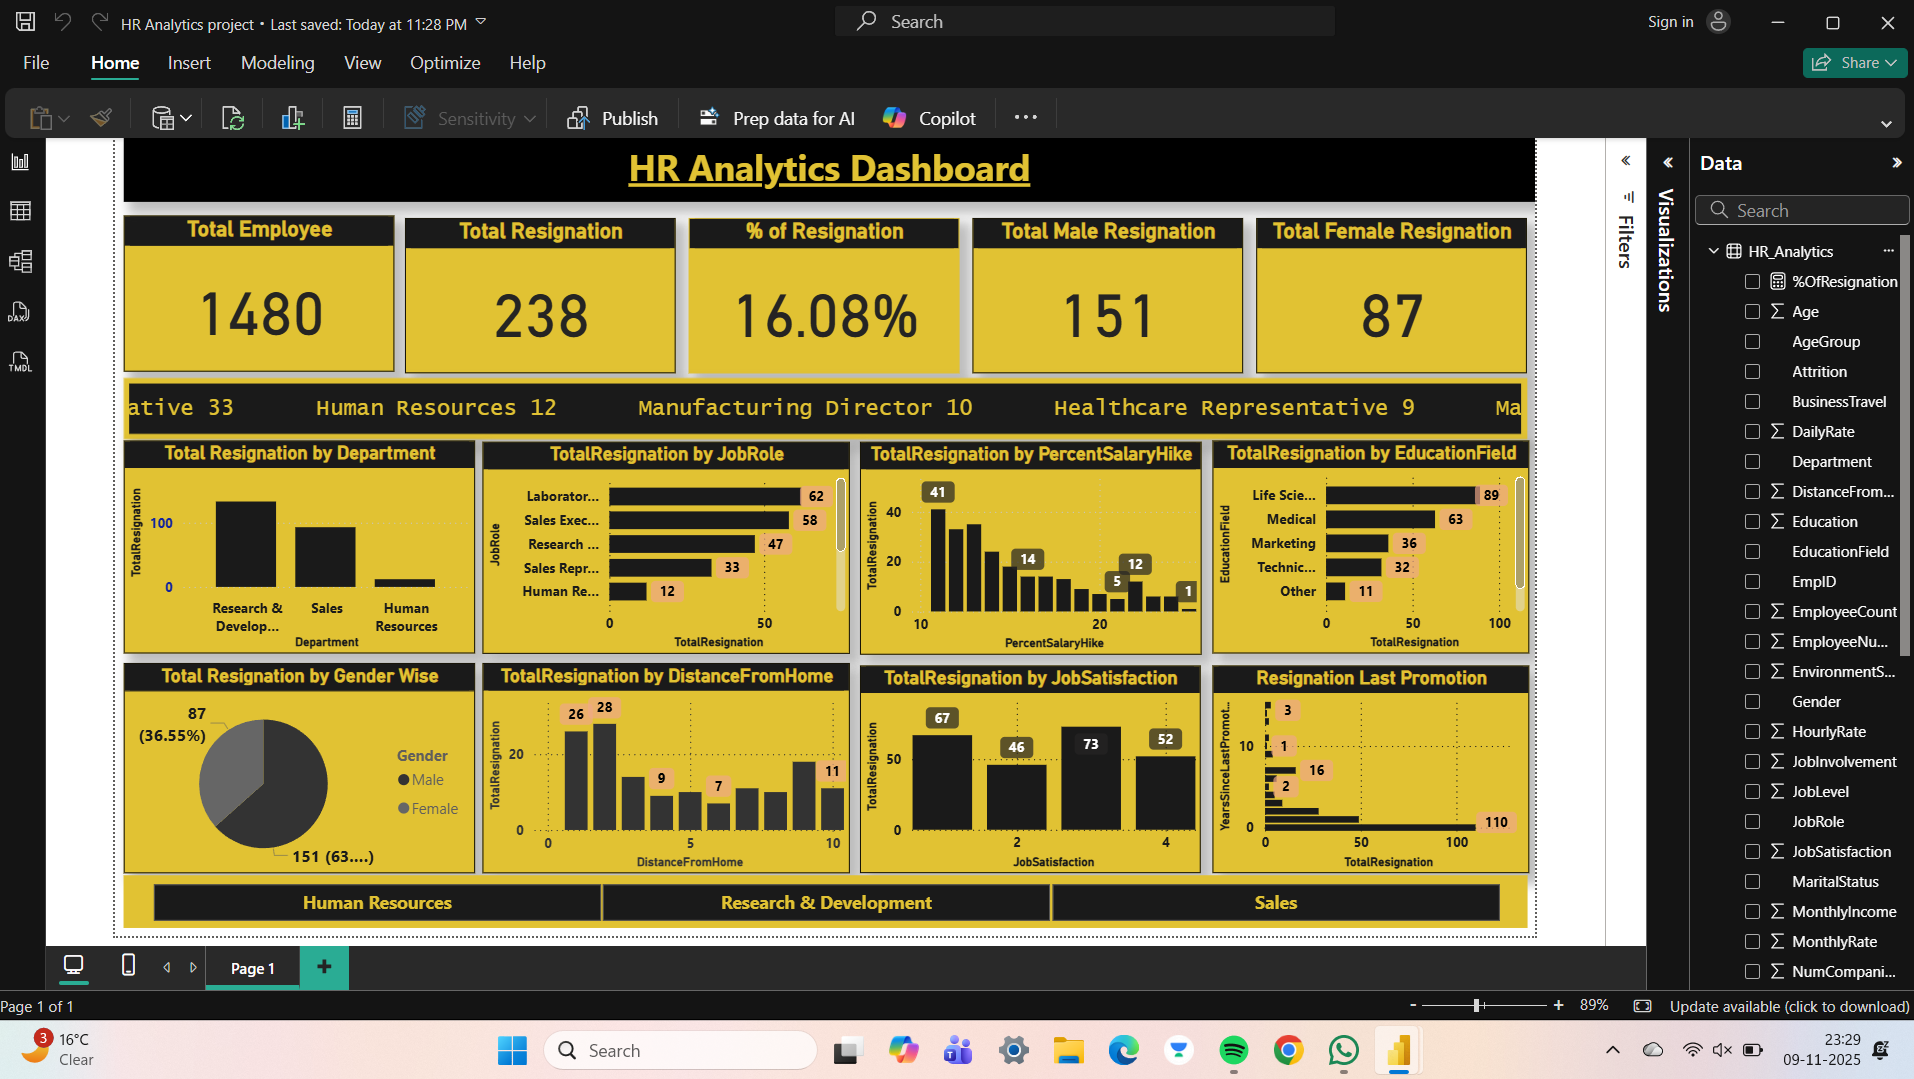

The page's visual inventory and layout, read from the dashboard file:
{"tool":"powerbi","page":{"name":"Page 1","canvas":[1280,720],"ordinal":0},"visuals":[{"type":"card","title":"Total Employee","fields":{"Values":["HR_Analytics.TotalEmployee"]},"box":[7.4,70.2,244,140.5],"z":0},{"type":"textbox","box":[7.5,0,1272.6,57.2],"z":1000},{"type":"card","title":"Total Resignation","fields":{"Values":["HR_Analytics.TotalResignation"]},"box":[261.6,72,244,139.6],"z":2000},{"type":"card","title":"% of Resignation","fields":{"Values":["HR_Analytics.%OfResignation"]},"box":[517.4,72,244,139.6],"z":3000},{"type":"card","title":"Total Male Resignation","fields":{"Values":["HR_Analytics.TotalMaleResign"]},"box":[773.2,72,244,139.6],"z":4000},{"type":"card","title":"Total Female Resignation","fields":{"Values":["HR_Analytics.TotalFemaleResignation"]},"box":[1028.9,72,244,139.6],"z":5000},{"type":"ScrollingTextVisual1448795304508","fields":{"Measure Absolute":["HR_Analytics.TotalResignation"],"Category":["HR_Analytics.JobRole"]},"box":[7.4,216.9,1265.5,55.4],"z":6000},{"type":"lineClusteredColumnComboChart","title":"Total Resignation by Department","fields":{"Category":["HR_Analytics.Department"],"Y":["HR_Analytics.TotalResignation"]},"box":[7.4,272.3,316.7,192.2],"z":7000},{"type":"pieChart","title":"Total Resignation by Gender Wise","fields":{"Y":["HR_Analytics.TotalResignation"],"Category":["HR_Analytics.Gender"]},"box":[7.4,473.2,316.7,189.8],"z":8000},{"type":"clusteredBarChart","fields":{"Category":["HR_Analytics.JobRole"],"Y":["HR_Analytics.TotalResignation"]},"box":[331.5,273.5,331.5,191],"z":9000},{"type":"columnChart","fields":{"Category":["HR_Analytics.DistanceFromHome"],"Y":["HR_Analytics.TotalResignation"]},"box":[331.5,473.2,331.5,189.8],"z":10000},{"type":"lineStackedColumnComboChart","fields":{"Category":["HR_Analytics.PercentSalaryHike"],"Y":["HR_Analytics.TotalResignation"]},"box":[671.5,273.5,308,192.2],"z":11000},{"type":"lineStackedColumnComboChart","fields":{"Category":["HR_Analytics.JobSatisfaction"],"Y":["HR_Analytics.TotalResignation"]},"box":[671.5,475.6,306.8,187.3],"z":12000},{"type":"clusteredBarChart","fields":{"Category":["HR_Analytics.EducationField"],"Y":["HR_Analytics.TotalResignation"]},"box":[989.5,272.3,285.9,192.2],"z":13000},{"type":"barChart","title":"Resignation Last Promotion","fields":{"Category":["HR_Analytics.YearsSinceLastPromotion"],"Y":["HR_Analytics.TotalResignation"]},"box":[989.5,475.6,285.9,187.3],"z":14000},{"type":"slicer","fields":{"Values":["HR_Analytics.Department"]},"box":[7.4,665.4,1265.5,46.8],"z":15000}]}

Visuals, with their boxes on the page's 1280x720 design canvas (x1, y1, x2, y2). These are canvas units, not pixel positions in the 1914x1079 screenshot, which may show the page scaled, cropped or inside an application window:
"Total Employee" card: select_region(7, 70, 251, 211)
textbox: select_region(8, 0, 1280, 57)
"Total Resignation" card: select_region(262, 72, 506, 212)
"% of Resignation" card: select_region(517, 72, 761, 212)
"Total Male Resignation" card: select_region(773, 72, 1017, 212)
"Total Female Resignation" card: select_region(1029, 72, 1273, 212)
ScrollingTextVisual1448795304508 - HR_Analytics.TotalResignation x HR_Analytics.JobRole: select_region(7, 217, 1273, 272)
"Total Resignation by Department" lineClusteredColumnComboChart: select_region(7, 272, 324, 464)
"Total Resignation by Gender Wise" pieChart: select_region(7, 473, 324, 663)
clusteredBarChart - HR_Analytics.JobRole x HR_Analytics.TotalResignation: select_region(332, 274, 663, 464)
columnChart - HR_Analytics.DistanceFromHome x HR_Analytics.TotalResignation: select_region(332, 473, 663, 663)
lineStackedColumnComboChart - HR_Analytics.PercentSalaryHike x HR_Analytics.TotalResignation: select_region(672, 274, 980, 466)
lineStackedColumnComboChart - HR_Analytics.JobSatisfaction x HR_Analytics.TotalResignation: select_region(672, 476, 978, 663)
clusteredBarChart - HR_Analytics.EducationField x HR_Analytics.TotalResignation: select_region(990, 272, 1275, 464)
"Resignation Last Promotion" barChart: select_region(990, 476, 1275, 663)
slicer - HR_Analytics.Department: select_region(7, 665, 1273, 712)
